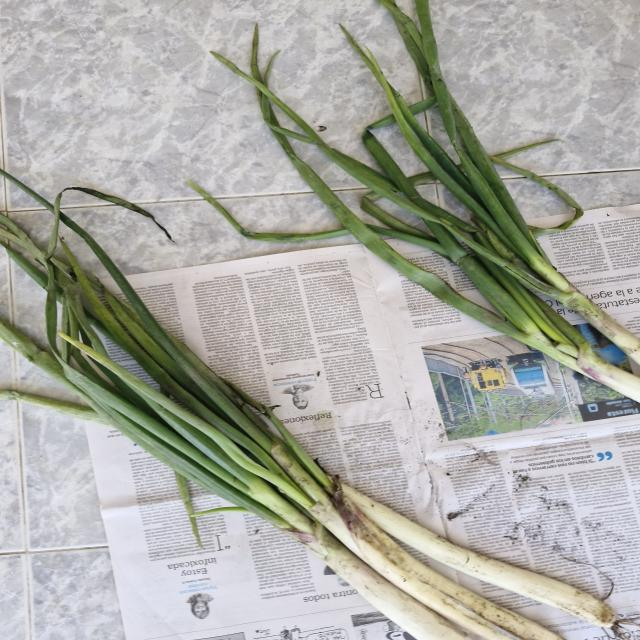green_onion: (1, 171, 635, 640)
